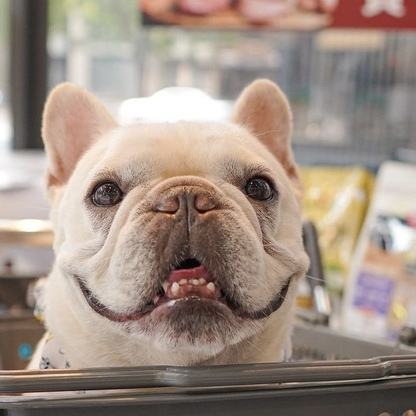bulldog: (33, 77, 312, 372)
